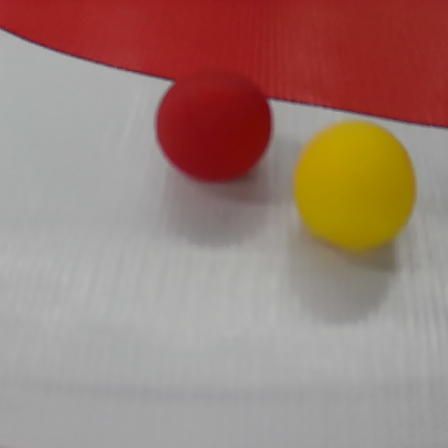blue_base: (1, 1, 448, 125)
red: (155, 71, 273, 181)
yellow: (288, 115, 417, 258)
